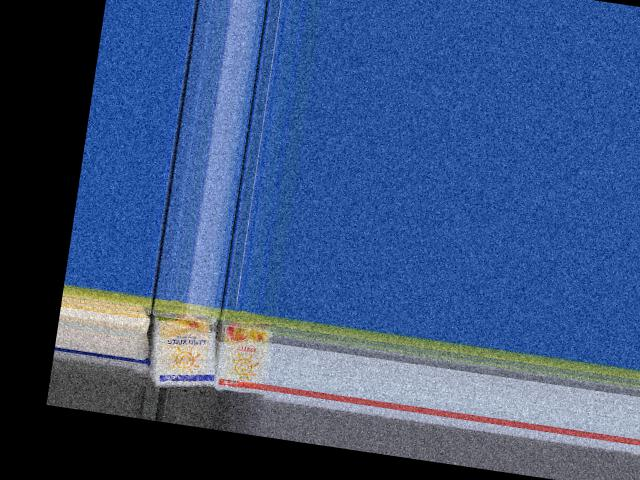cheese: (212, 308, 279, 401)
